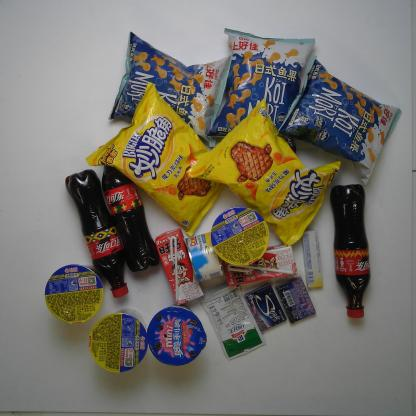Candy: (301, 229, 325, 290)
Canned Food: (186, 231, 225, 282)
Dessert: (146, 306, 209, 367)
Drink: (64, 168, 130, 300), (92, 149, 161, 273), (330, 183, 370, 320)
Gum: (245, 284, 286, 333), (276, 277, 317, 323)
Instant Noodles: (89, 310, 147, 376), (44, 264, 105, 325), (210, 208, 270, 267)
Milk: (156, 228, 203, 304), (224, 243, 298, 285)
Puffed Food: (85, 81, 234, 235), (188, 98, 341, 245), (277, 59, 401, 184), (106, 30, 233, 146), (207, 27, 316, 153)
Seasoner: (202, 284, 266, 363)
